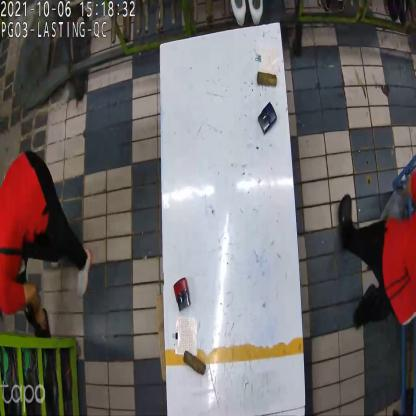stamp: (258, 100, 278, 134), (174, 279, 193, 314)
